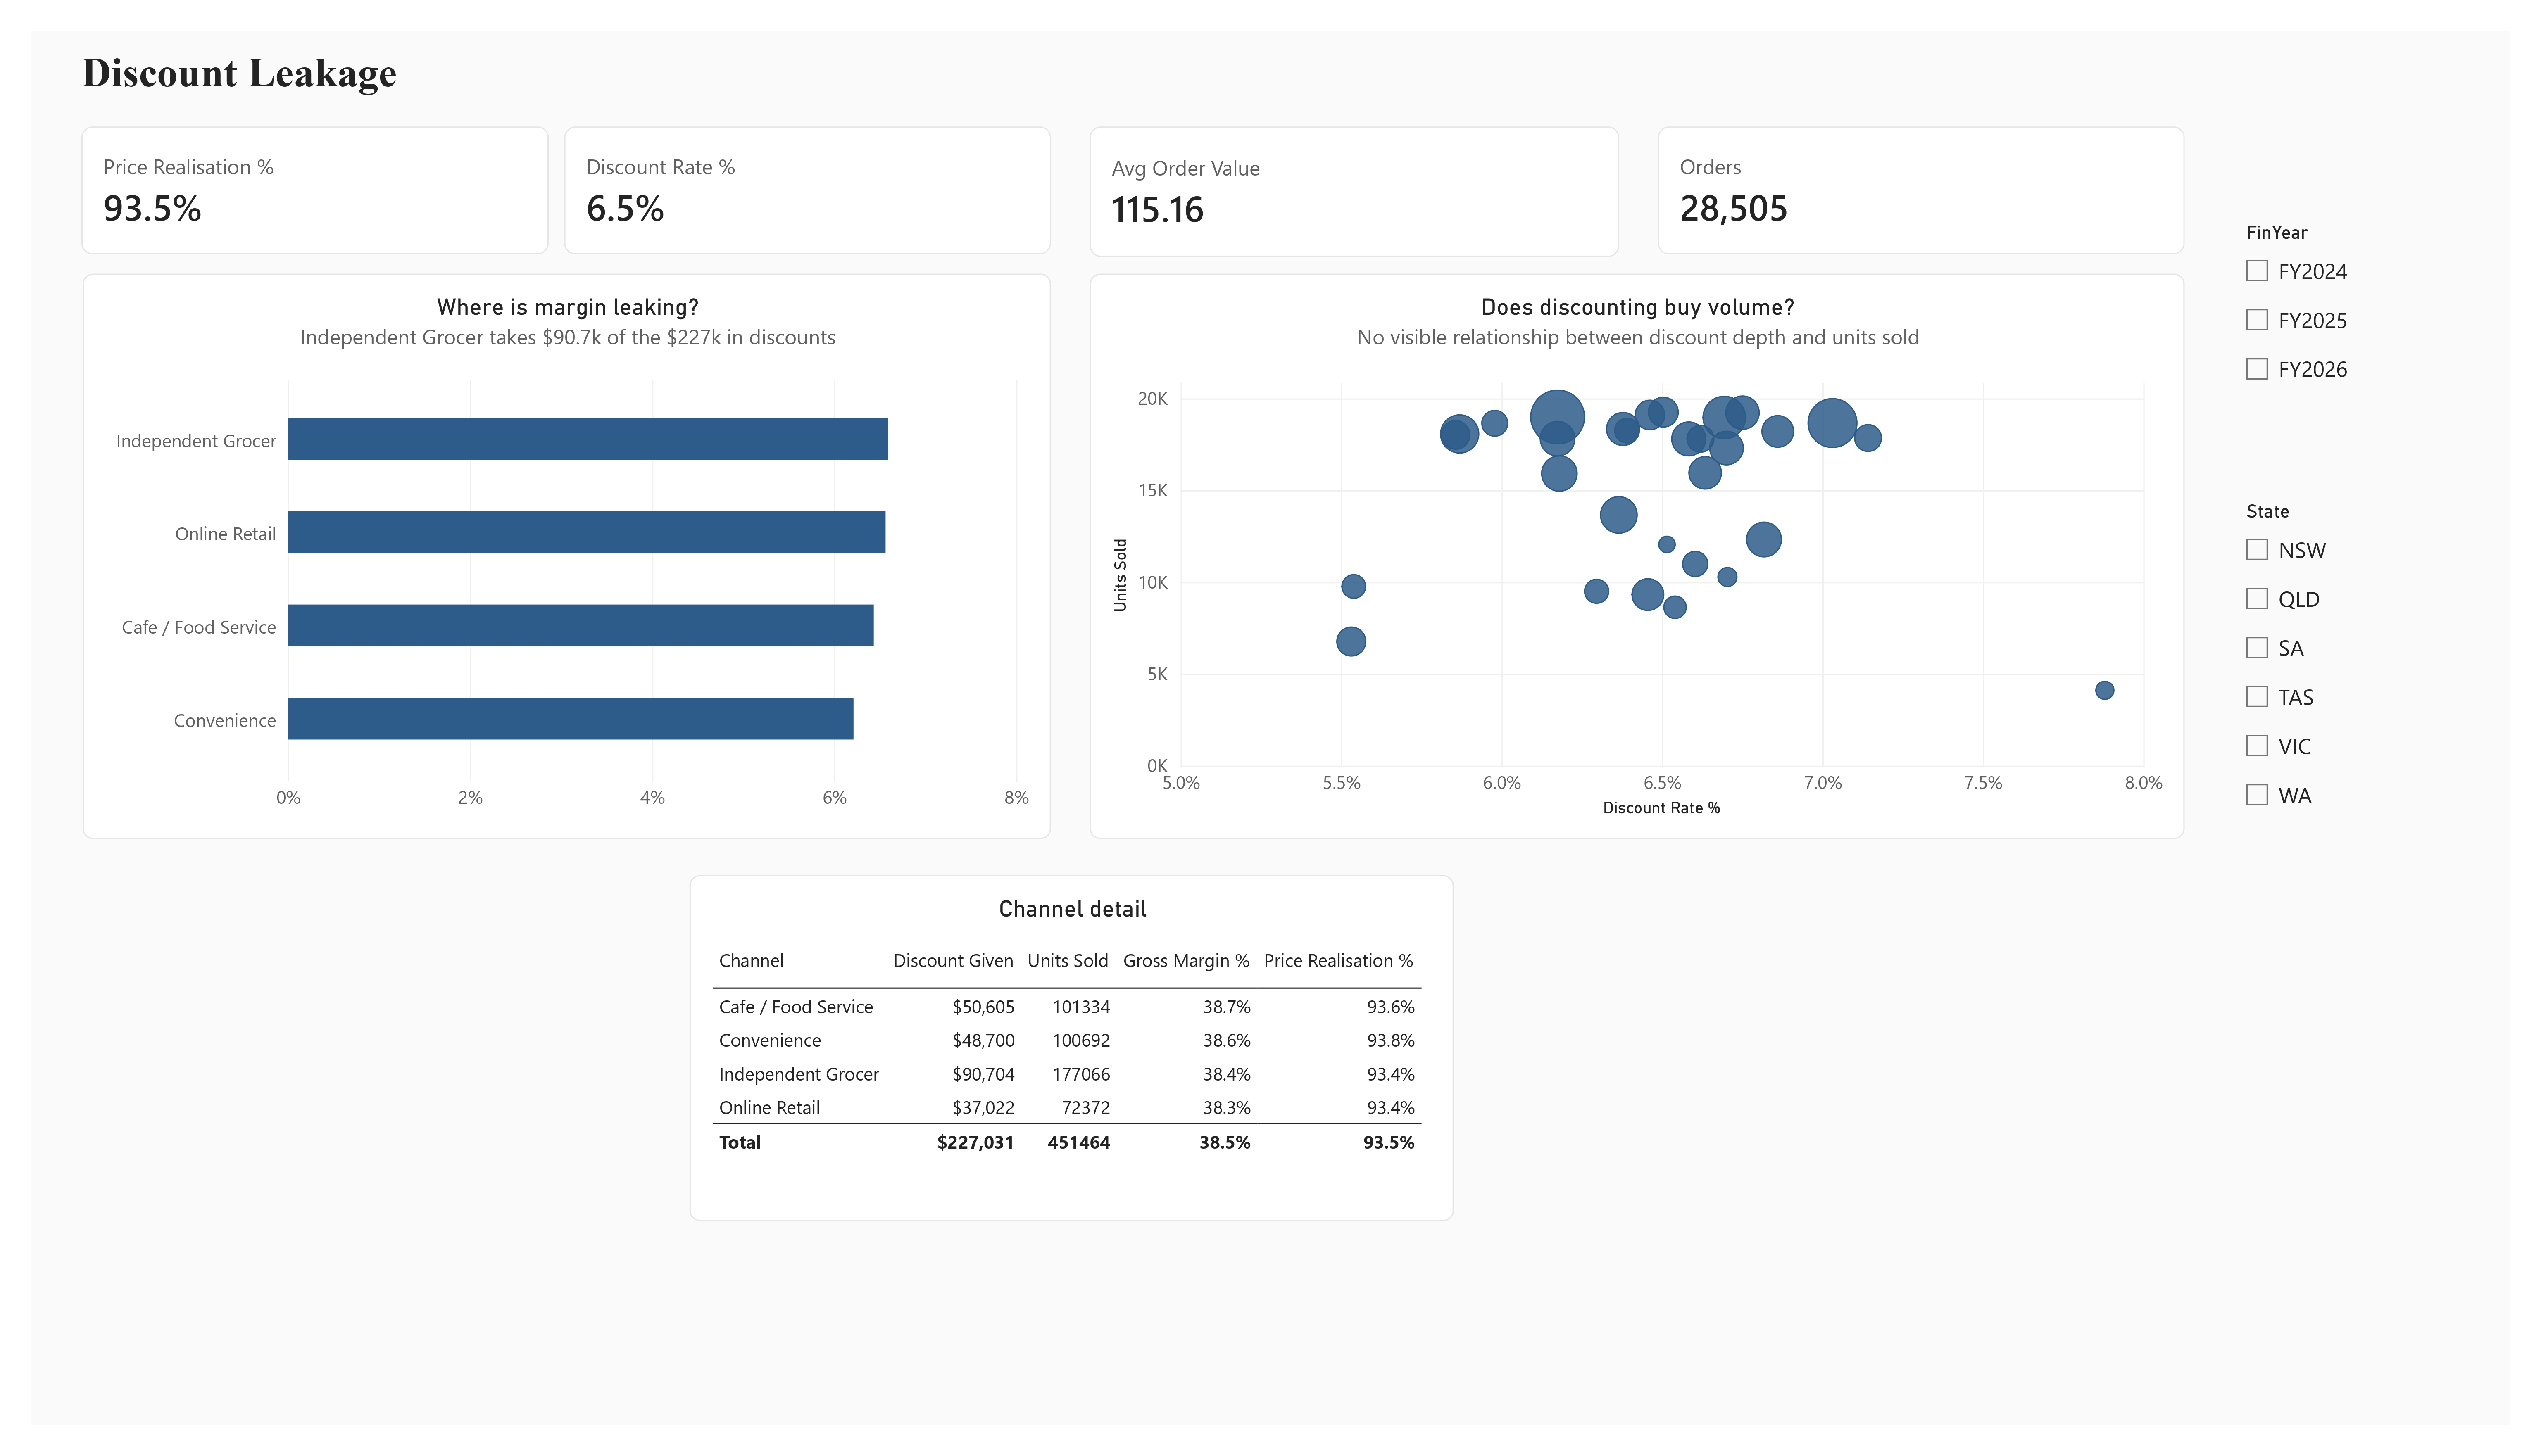

Layout of this report page (visuals, bound fields, positions):
{"tool":"powerbi","page":{"name":"Discount Leakage","canvas":[1920,1080],"ordinal":3},"visuals":[{"type":"cardVisual","fields":{"Data":["_Measures.Price Realisation %"]},"box":[39.1,74,361.9,98.7],"z":0},{"type":"cardVisual","fields":{"Data":["_Measures.Discount Rate %"]},"box":[413.3,74,376.3,98.7],"z":1000},{"type":"cardVisual","fields":{"Data":["_Measures.Avg Order Value"]},"box":[820.4,74,409.2,100.7],"z":2000},{"type":"clusteredBarChart","title":"Where is margin leaking?","fields":{"Category":["DimCustomer.Channel"],"Y":["_Measures.Discount Rate %"]},"box":[40,188,750,438],"z":3000},{"type":"scatterChart","title":"Does discounting buy volume?","fields":{"Category":["DimProduct.ProductName"],"Size":["_Measures.Gross Profit"],"X":["_Measures.Discount Rate %"],"Y":["_Measures.Units Sold"]},"box":[820,188,848,438],"z":4000},{"type":"tableEx","title":"Channel detail","fields":{"Values":["DimCustomer.Channel","_Measures.Discount Given","_Measures.Units Sold","_Measures.Gross Margin %","_Measures.Price Realisation %"]},"box":[510,654,592,268],"z":5000},{"type":"slicer","fields":{"Values":["DimDate.FinYear"]},"box":[1708,148,154,216],"z":6000},{"type":"slicer","fields":{"Values":["DimCustomer.State"]},"box":[1708,364,154,262],"z":7000},{"type":"textbox","box":[39.1,14.4,1221.3,41.1],"z":8000},{"type":"cardVisual","fields":{"Data":["_Measures.Orders"]},"box":[1260.4,74,407.1,98.7],"z":9000}]}

Visuals, with their boxes on the page's 1920x1080 design canvas (x1, y1, x2, y2). These are canvas units, not pixel positions in the 2541x1456 screenshot, which may show the page scaled, cropped or inside an application window:
cardVisual - _Measures.Price Realisation %: left=39, top=74, right=401, bottom=173
cardVisual - _Measures.Discount Rate %: left=413, top=74, right=790, bottom=173
cardVisual - _Measures.Avg Order Value: left=820, top=74, right=1230, bottom=175
"Where is margin leaking?" clusteredBarChart: left=40, top=188, right=790, bottom=626
"Does discounting buy volume?" scatterChart: left=820, top=188, right=1668, bottom=626
"Channel detail" tableEx: left=510, top=654, right=1102, bottom=922
slicer - DimDate.FinYear: left=1708, top=148, right=1862, bottom=364
slicer - DimCustomer.State: left=1708, top=364, right=1862, bottom=626
textbox: left=39, top=14, right=1260, bottom=56
cardVisual - _Measures.Orders: left=1260, top=74, right=1668, bottom=173
